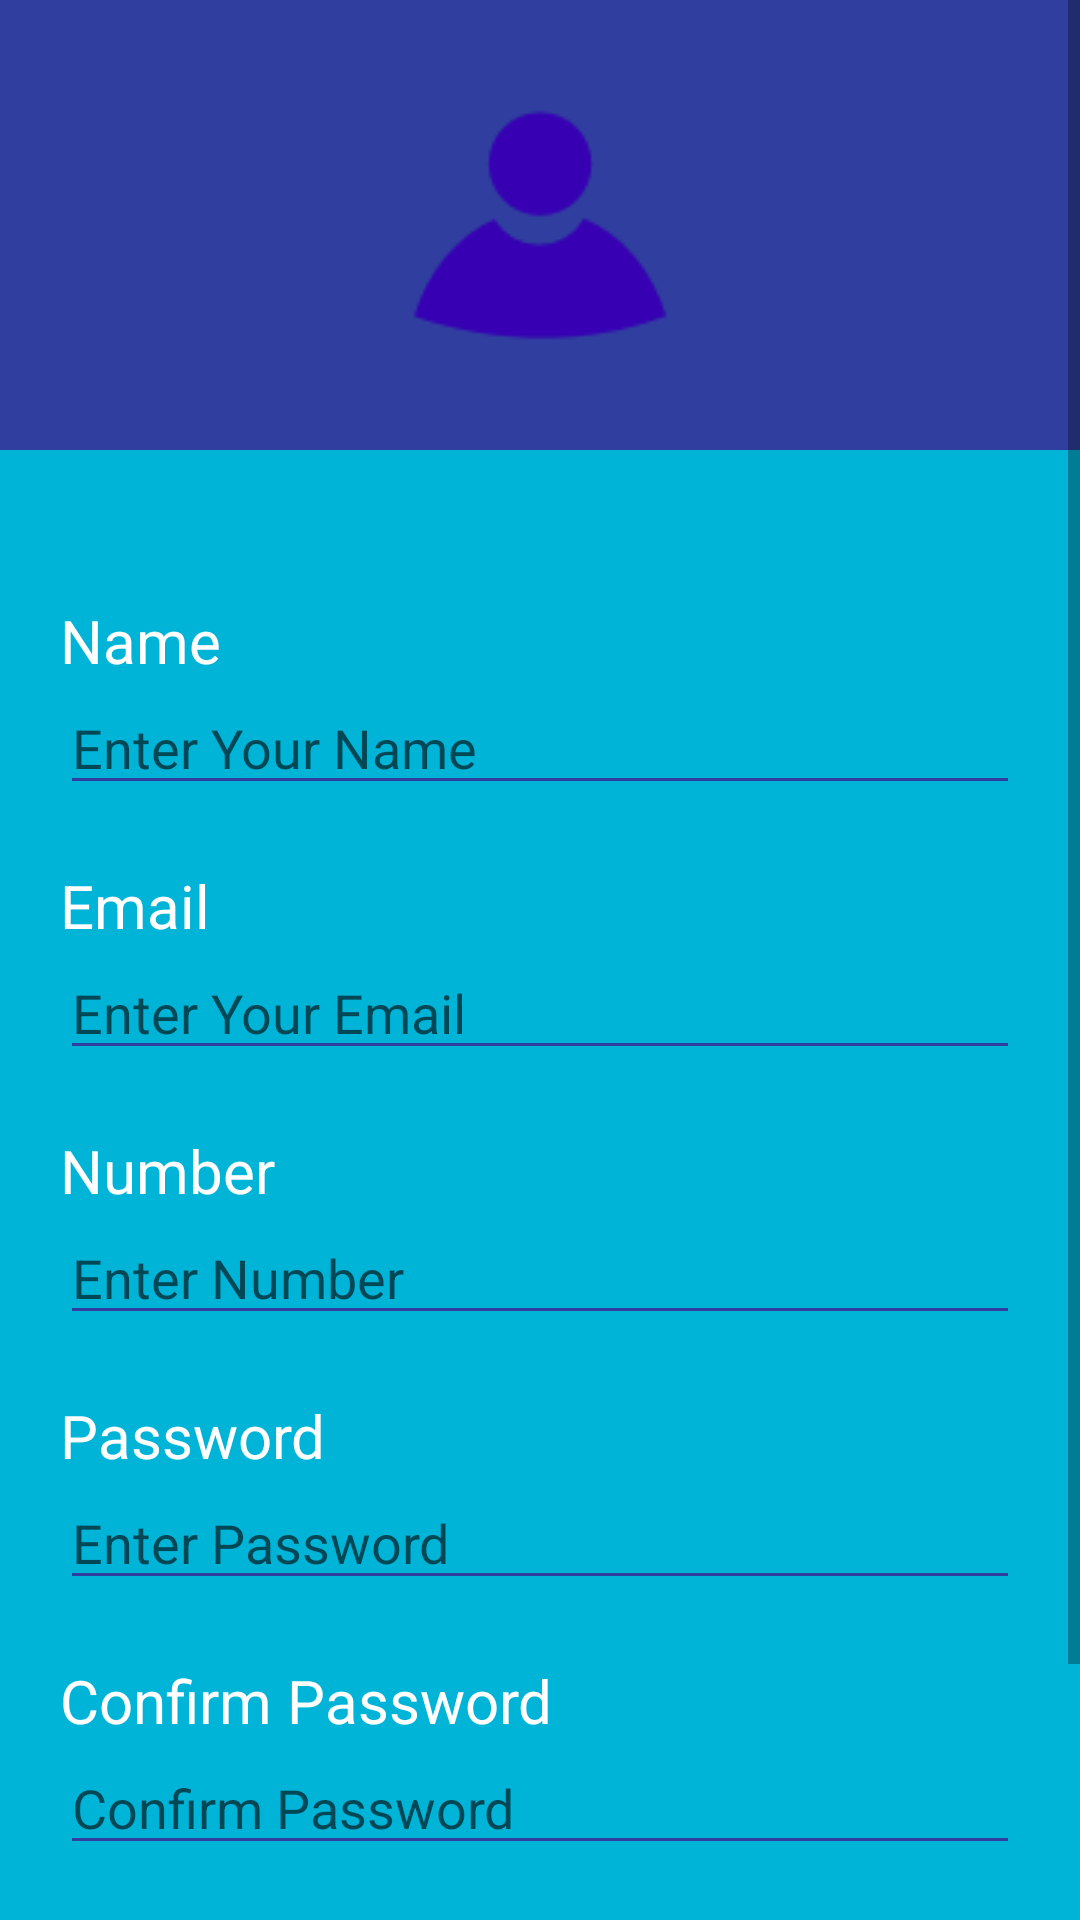

Screen size 1080x1920. Icon name, then its box in pixels as (x1, y1, x2, y2):
user: (414, 112, 666, 339)
